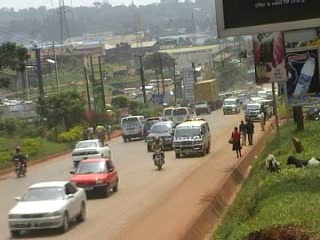Car: (6, 179, 89, 237), (68, 157, 119, 200), (70, 135, 111, 167), (194, 101, 211, 116)
Motorcycle: (148, 136, 167, 172), (10, 144, 29, 179)
